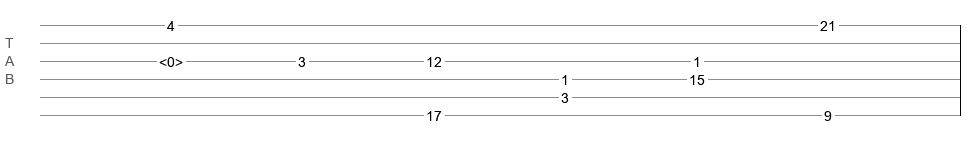1: (561, 72, 569, 82), (693, 54, 701, 64)
12: (426, 54, 442, 64)
15: (689, 72, 705, 82)
17: (426, 108, 442, 118)
21: (820, 18, 836, 28)
3: (298, 54, 306, 64), (561, 90, 569, 100)
4: (167, 18, 175, 28)
9: (824, 108, 832, 118)
harmonic: (159, 54, 183, 64)
